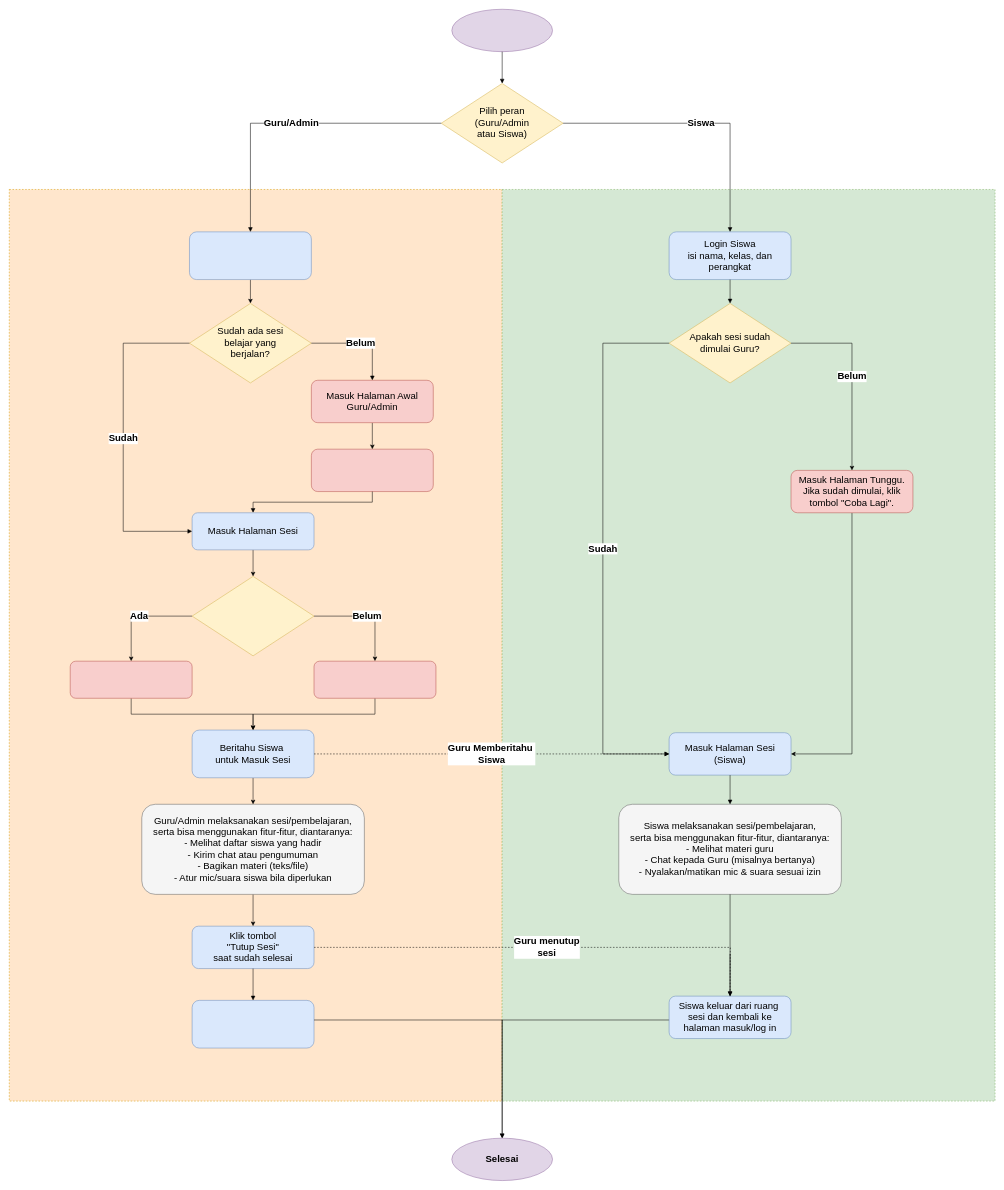
This 1004x1190 diagram has some shape labels left out. Each missing label, with the centre of its shape:
Berikan Nama Sesi, Atur Waktu Sesi, lalu, Klik tombol "Mulai Sesi": (x=372, y=470)
Buat/Masukan Materi: (x=374, y=679)
Lihat ringkasan hasil sesi dan unduh laporan jika dibutuhkan: (x=253, y=1024)
Login Guru/Admin masukkan username & password: (x=250, y=255)
Mulai Buka aplikasi: (x=502, y=30)
Pilih Materi: (x=131, y=679)
Sudah Ada Materi?: (x=253, y=616)
